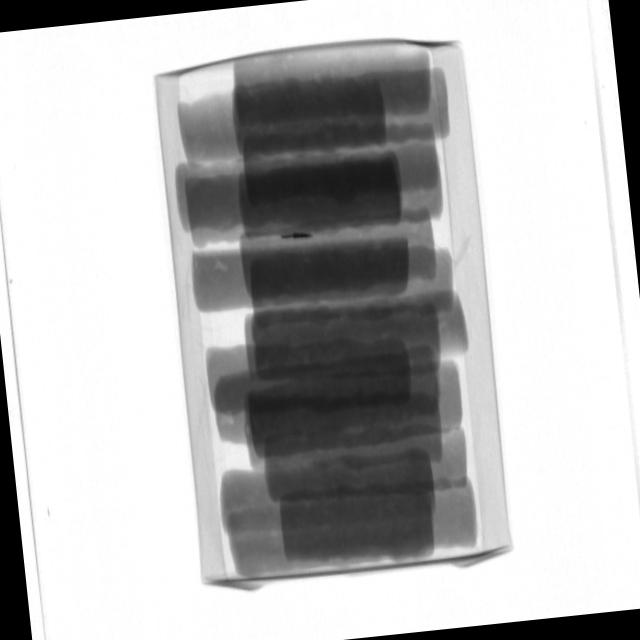ym: (282, 228, 315, 243)
